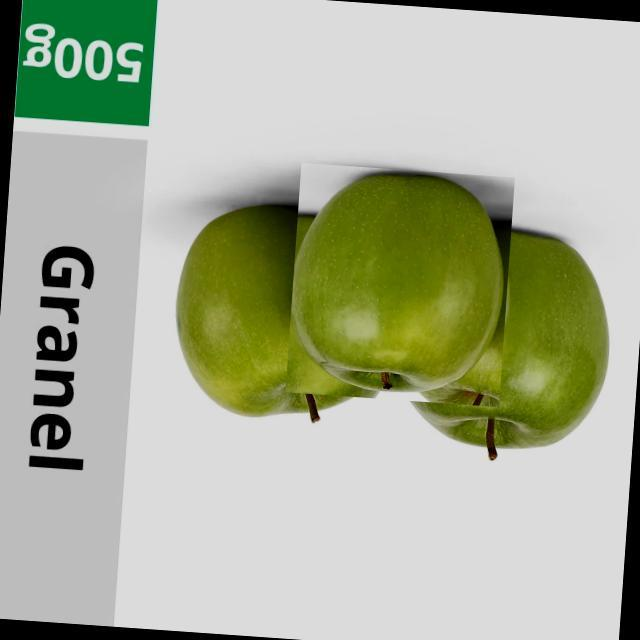Green Apple: (289, 171, 505, 394), (411, 227, 610, 460), (176, 204, 378, 422)
